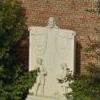Statue: (37, 10, 65, 94)
